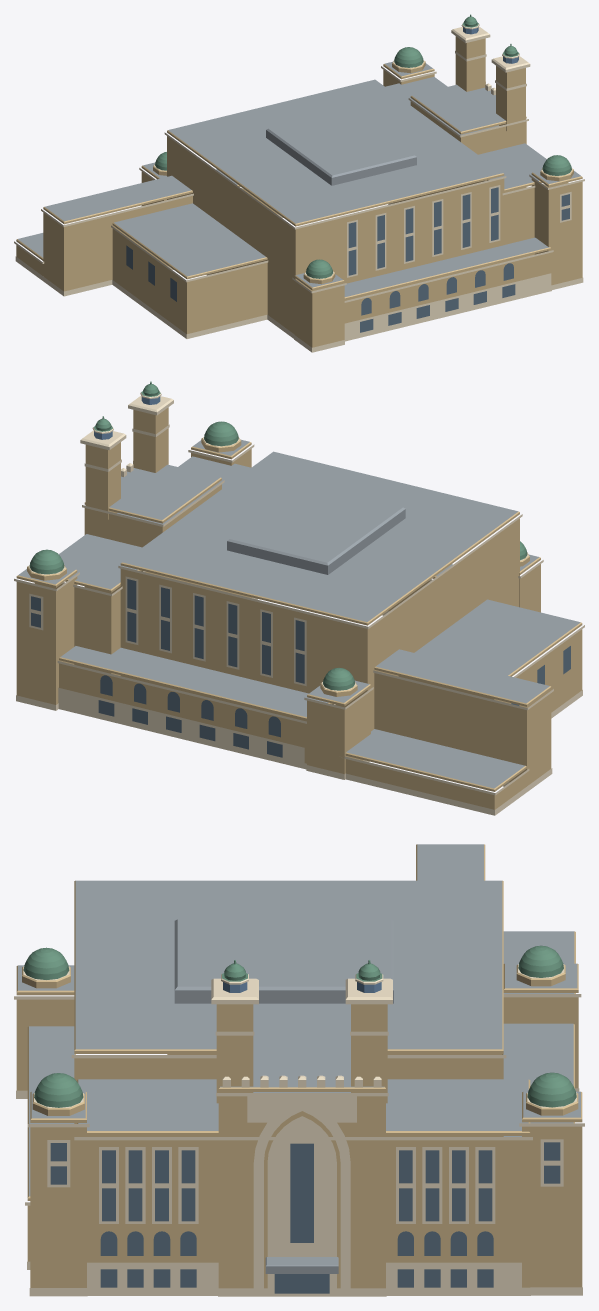
The model's file is ric-altria-theater.glb.
3 views of the same model, one above another, from view 1: azimuth 30°, elevation 25°; view 2: azimuth 150°, elevation 25°; view 3: azimuth 270°, elevation 25° (orthographic). The views are drawn at different scales.
Visible parts, largest first — view 1: Altria Theater; view 2: Altria Theater; view 3: Altria Theater.
Boxes of the visible parts, x1,y1,x2,y2 form: Altria Theater: (14,14,584,352); Altria Theater: (14,381,584,815); Altria Theater: (14,844,584,1296).
Bounding box in the file's own units: 87.7 × 39.6 × 62.5.
